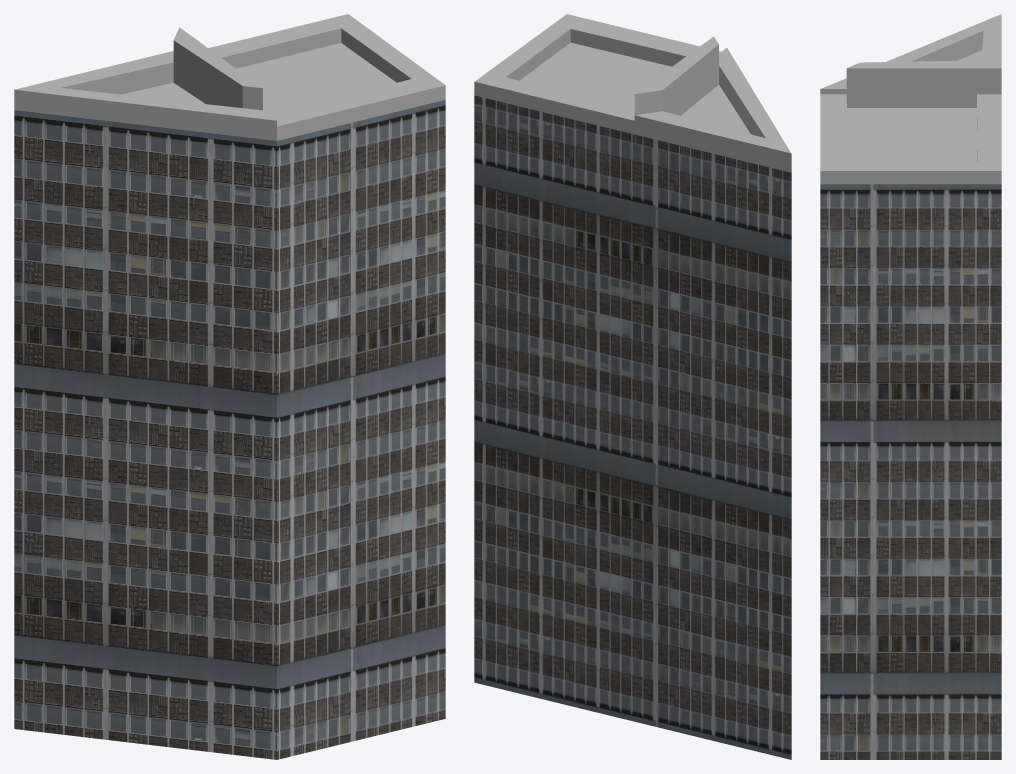
File: Building 4.fbx
3 renders of one model, left to right at view 1: azimuth 30°, elevation 25°; view 2: azimuth 150°, elevation 25°; view 3: azimuth 270°, elevation 25°, orthographic. The views are drawn at different scales.
Parts seen in each view (by area): view 1: pCube1; view 2: pCube1; view 3: pCube1.
Part boxes in pixels (x1,y1,x2,y2): pCube1: (14, 14, 445, 759); pCube1: (474, 14, 791, 759); pCube1: (820, 14, 1001, 759).
Size of the model in its own units: 0.0198 by 0.0374 by 0.01.
3 materials, 1 textured.
